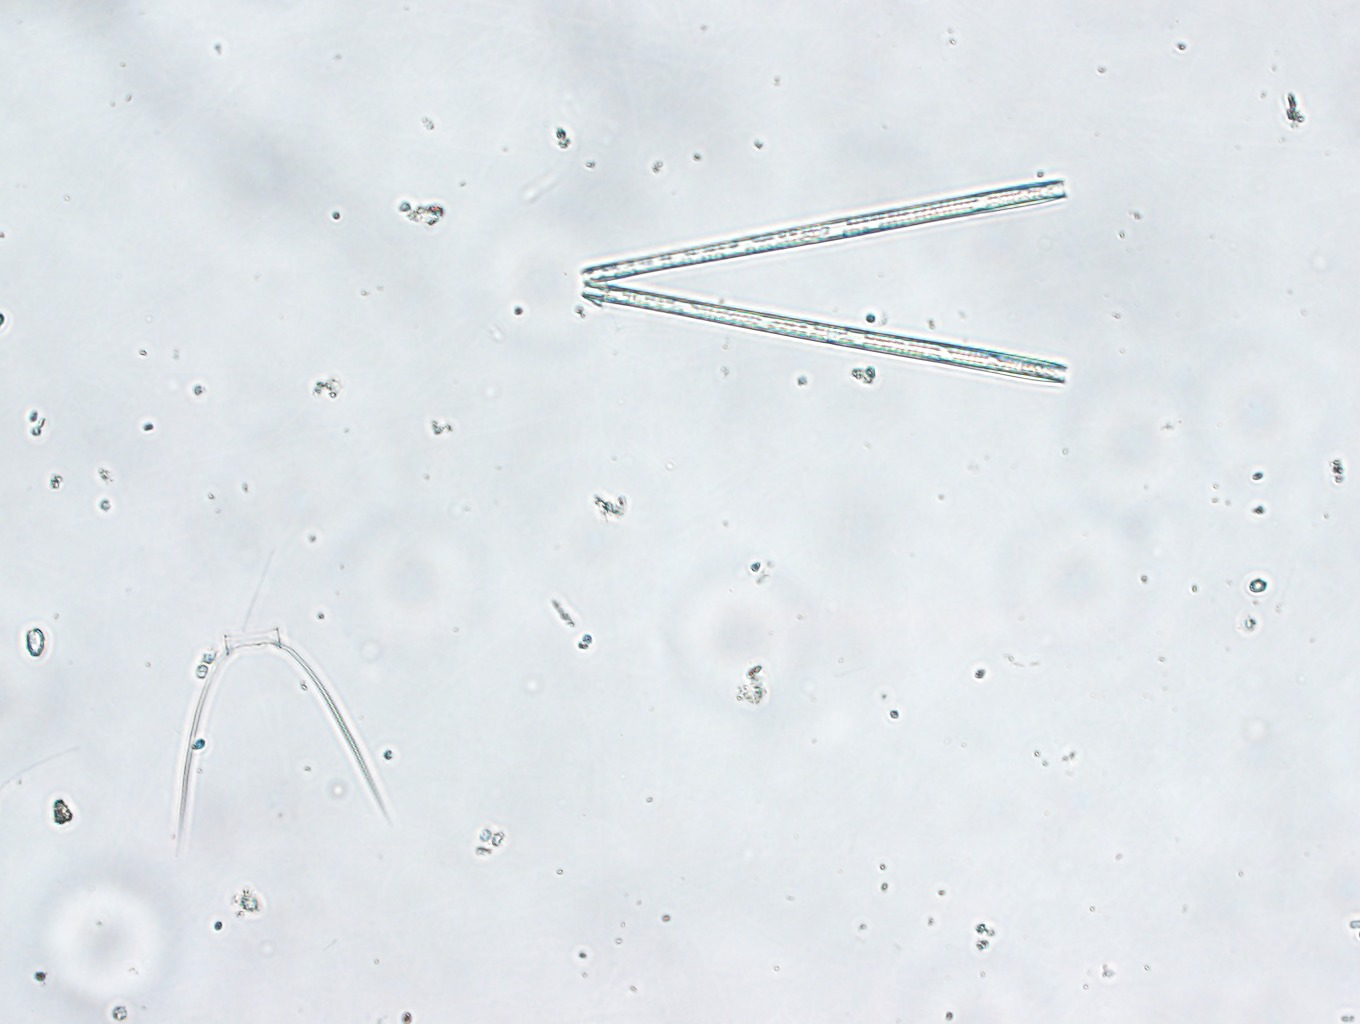chaetoceros: (155, 610, 395, 855)
thalassionema frauenfeldii: (568, 160, 1077, 397)
